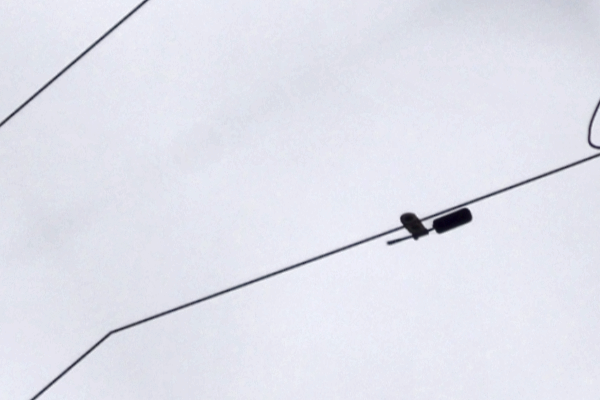damper_defect: (382, 205, 475, 249)
